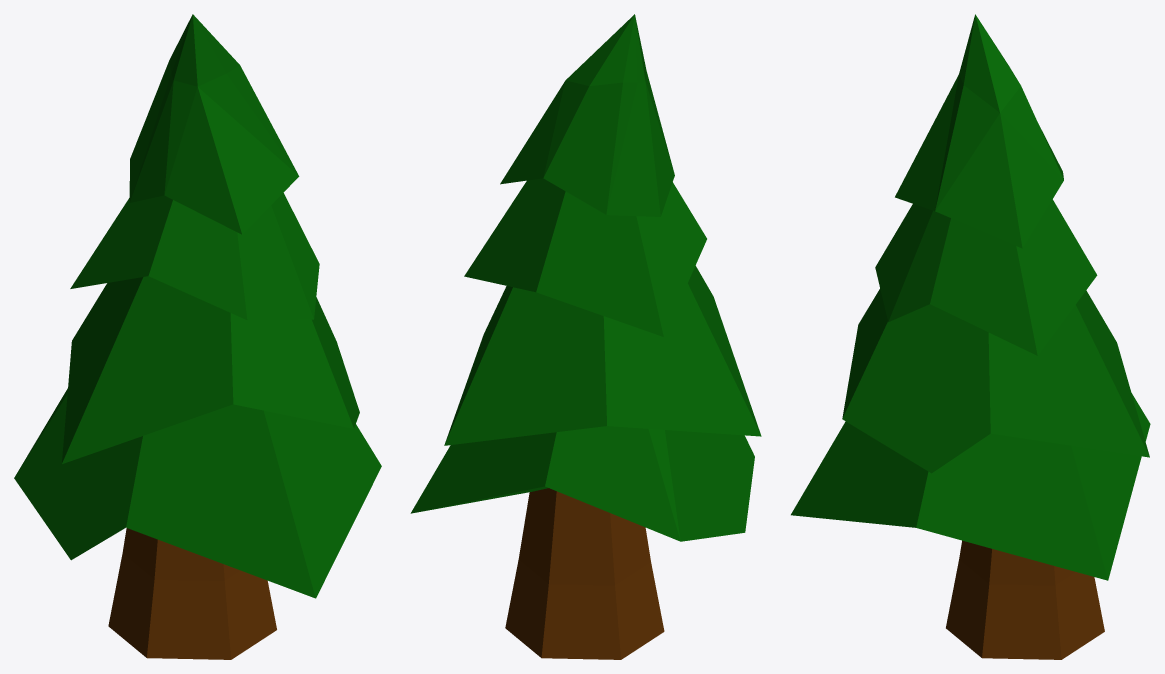
File: Proto_Vegetation_Tree_Pine_01.fbx
3 renders of one model, left to right at view 1: azimuth 30°, elevation 25°; view 2: azimuth 150°, elevation 25°; view 3: azimuth 270°, elevation 25°, orthographic. The views are drawn at different scales.
Visible parts, largest first — view 1: Proto_Vegetation_Tree_Pine_01; view 2: Proto_Vegetation_Tree_Pine_01; view 3: Proto_Vegetation_Tree_Pine_01.
Part boxes in pixels (bbox=[...]): Proto_Vegetation_Tree_Pine_01: bbox=[14, 14, 381, 659]; Proto_Vegetation_Tree_Pine_01: bbox=[410, 14, 761, 659]; Proto_Vegetation_Tree_Pine_01: bbox=[791, 14, 1150, 659].
Bounding box in the file's own units: 1.06 × 2.17 × 1.17.
